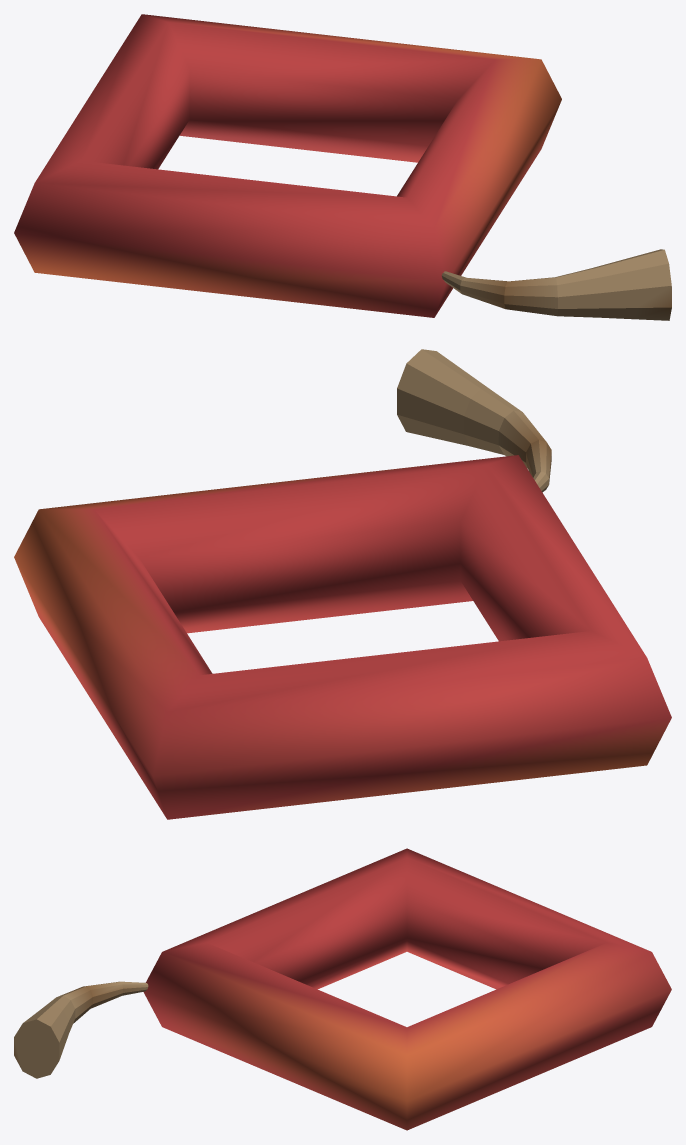
File: girth_cuberry.glb
3 views of the same model, one above another, from view 1: azimuth 30°, elevation 25°; view 2: azimuth 150°, elevation 25°; view 3: azimuth 270°, elevation 25° (orthographic). The views are drawn at different scales.
Visible parts, largest first — view 1: Torus, Cone; view 2: Torus, Cone; view 3: Torus, Cone.
Part boxes in pixels (left/top/right/bottom): Torus: left=14, top=14, right=561, bottom=317; Cone: left=441, top=249, right=671, bottom=320; Torus: left=14, top=455, right=671, bottom=819; Cone: left=397, top=349, right=551, bottom=492; Torus: left=143, top=848, right=671, bottom=1130; Cone: left=14, top=981, right=148, bottom=1078.
Bounding box in the file's own units: 2.5 × 0.4875 × 3.1.
